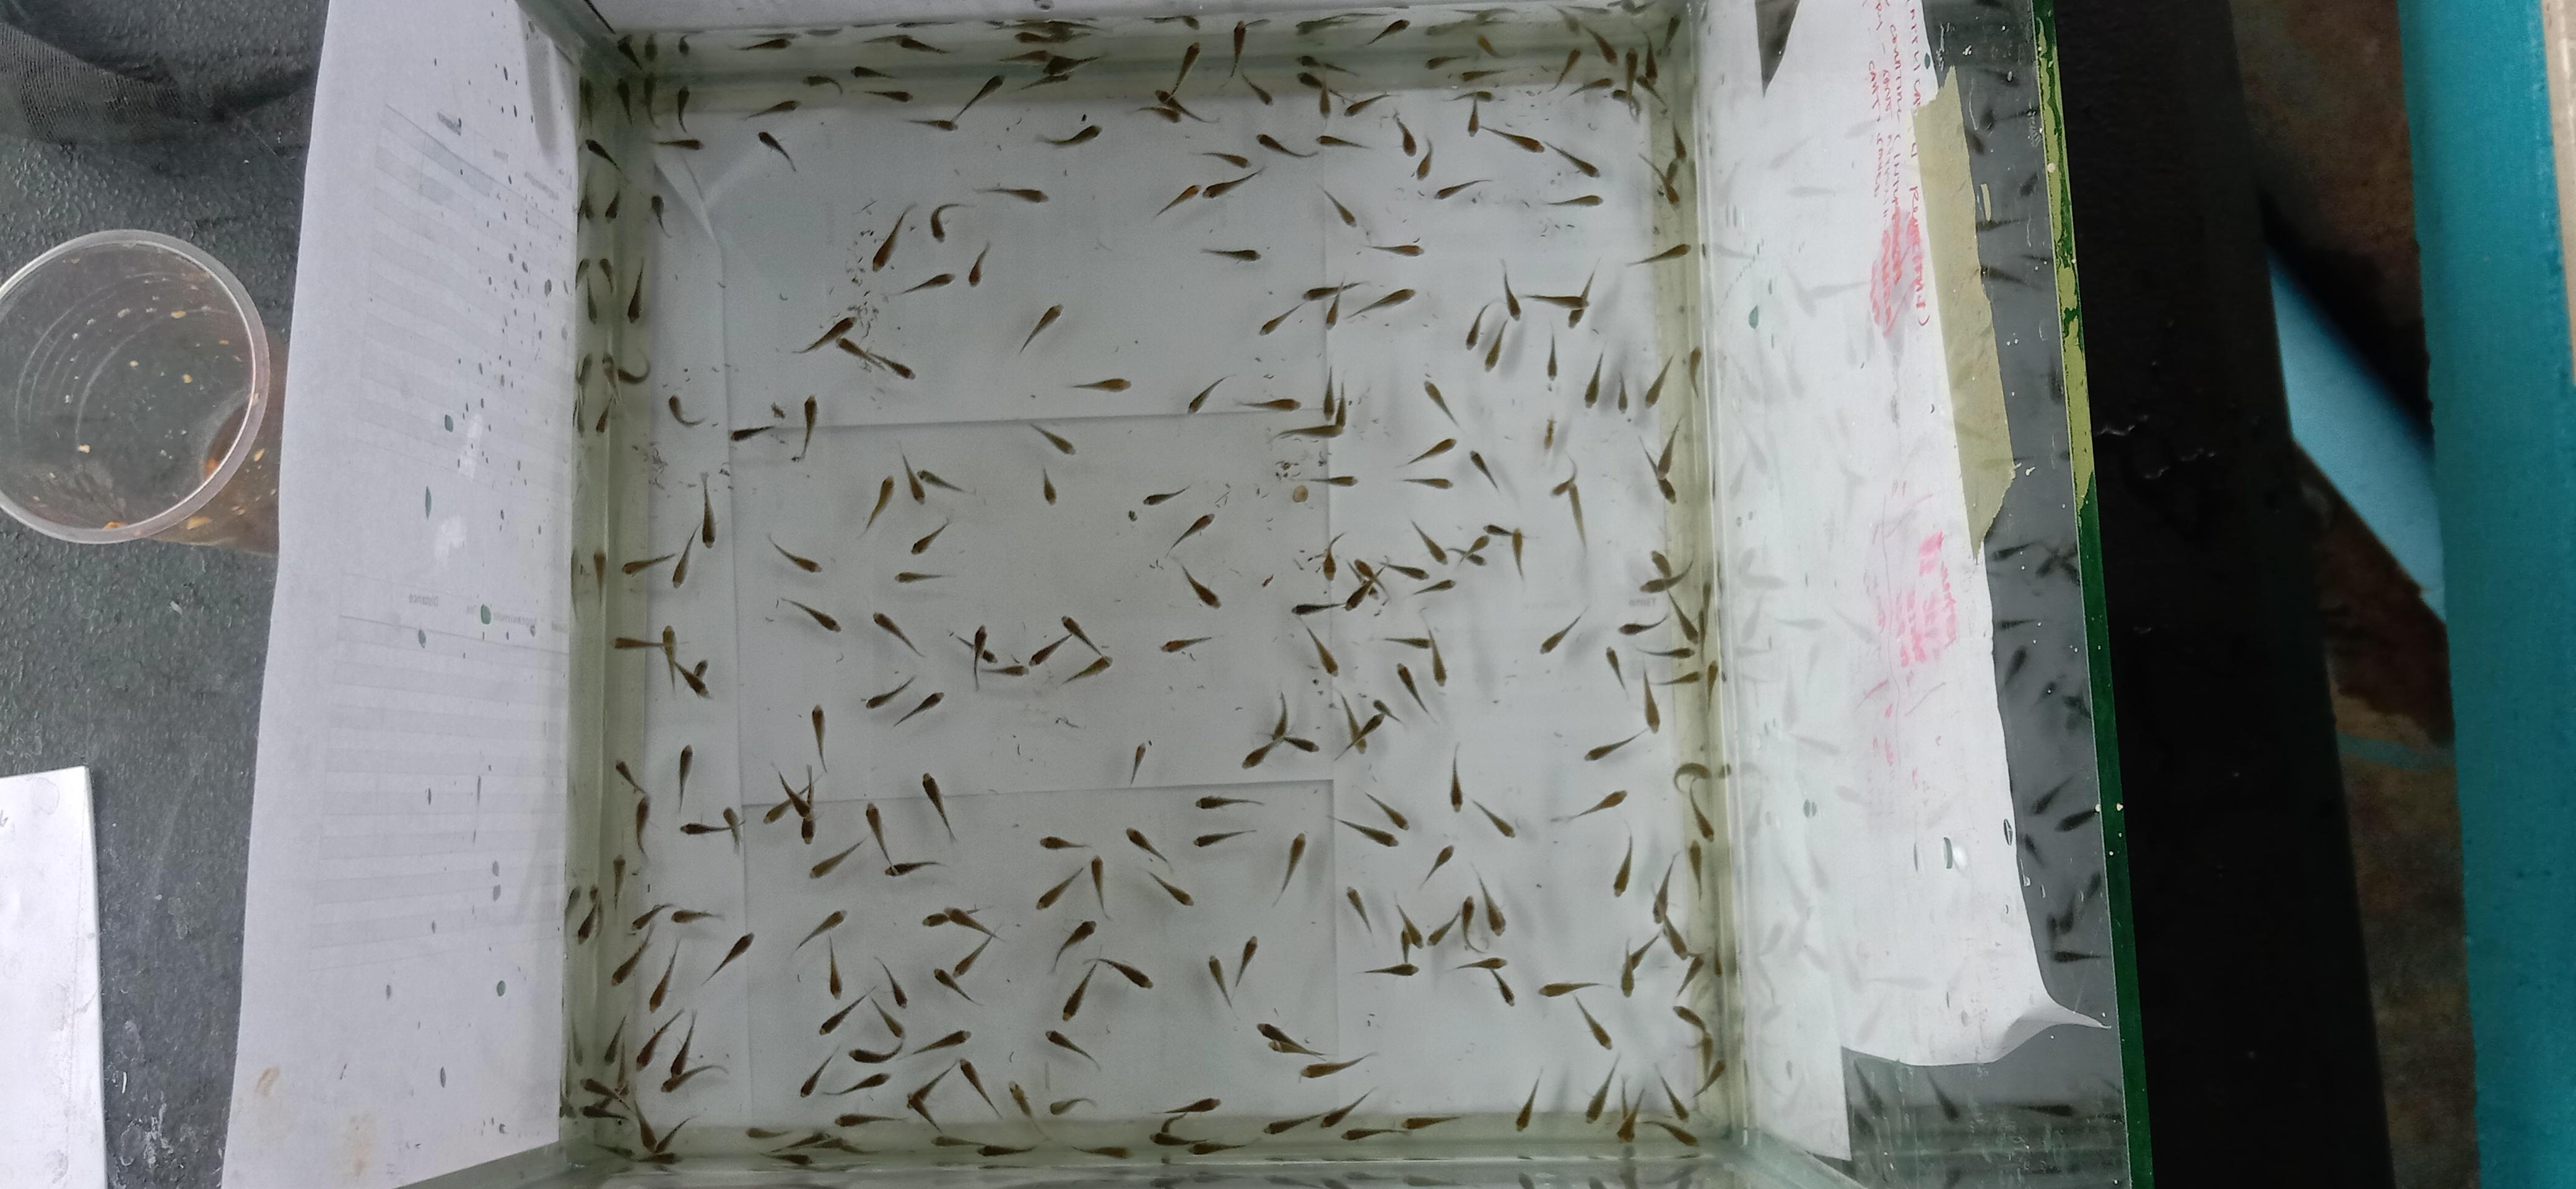fingerling: (1134, 41, 1221, 126), (613, 624, 710, 698), (1322, 187, 1423, 256), (1480, 122, 1600, 179), (1449, 742, 1515, 838), (1258, 279, 1364, 337), (1240, 690, 1316, 769), (862, 803, 940, 877), (1157, 164, 1265, 217), (905, 74, 1004, 131), (1061, 956, 1152, 1018), (660, 1013, 728, 1094), (948, 622, 1027, 690), (670, 473, 716, 586), (1460, 94, 1544, 154), (1538, 980, 1613, 1048), (1263, 1089, 1373, 1135), (1327, 688, 1398, 759), (1035, 854, 1111, 920), (1272, 376, 1349, 440), (1344, 553, 1429, 609), (1671, 1003, 1723, 1094), (1651, 859, 1695, 961), (818, 990, 904, 1043), (1184, 374, 1298, 414), (793, 908, 844, 995), (862, 672, 943, 726), (764, 764, 818, 841), (1525, 269, 1595, 325), (931, 938, 991, 1003), (1206, 934, 1258, 1008), (1424, 31, 1513, 74), (1382, 629, 1447, 685), (1017, 51, 1104, 92), (900, 450, 969, 501), (614, 759, 651, 854), (1672, 760, 1715, 841), (1341, 1113, 1462, 1141), (836, 337, 913, 379), (1559, 11, 1620, 66), (1567, 79, 1643, 122), (1549, 463, 1587, 547), (905, 1063, 951, 1130), (871, 204, 915, 273), (578, 151, 621, 222), (1303, 279, 1365, 327), (1456, 956, 1515, 1005), (634, 1007, 682, 1067), (570, 545, 606, 624), (678, 806, 743, 851), (1362, 926, 1419, 976), (639, 1112, 697, 1161), (1341, 286, 1414, 324), (629, 902, 723, 931), (1226, 18, 1270, 80), (951, 74, 1004, 126), (1620, 931, 1661, 997), (1152, 1097, 1217, 1138), (1242, 732, 1316, 769), (1551, 788, 1628, 823), (956, 1058, 1000, 1117), (922, 905, 997, 939), (705, 930, 754, 982), (1426, 895, 1474, 949), (1050, 918, 1096, 974), (1272, 831, 1306, 905), (1291, 583, 1368, 616), (1296, 529, 1345, 580), (797, 312, 858, 353), (1638, 549, 1694, 593), (920, 772, 954, 842), (872, 609, 923, 657), (1035, 861, 1083, 911), (808, 838, 866, 879), (1019, 302, 1063, 355), (818, 990, 871, 1035), (1636, 153, 1681, 205), (1584, 1054, 1618, 1122), (1483, 522, 1525, 578), (729, 402, 787, 442), (858, 475, 894, 537), (777, 596, 839, 632), (1255, 1020, 1318, 1056), (1321, 1087, 1373, 1130), (660, 1061, 728, 1094), (1395, 662, 1434, 718), (1296, 71, 1344, 117), (793, 908, 844, 951), (1060, 961, 1097, 1018), (1474, 869, 1506, 934), (565, 882, 600, 944), (862, 803, 894, 872), (1544, 140, 1600, 177), (609, 936, 652, 985), (767, 534, 820, 573), (1045, 1028, 1097, 1067), (1203, 166, 1265, 199), (646, 944, 677, 1010), (1539, 609, 1585, 654), (580, 1076, 629, 1117), (1334, 816, 1398, 847), (1301, 622, 1339, 675), (1124, 824, 1170, 867), (1178, 560, 1219, 608), (1584, 729, 1646, 760), (1349, 557, 1388, 606), (593, 355, 618, 434), (1155, 89, 1211, 123), (1421, 378, 1459, 429), (1663, 591, 1700, 642), (1170, 511, 1214, 553), (1299, 1054, 1370, 1081), (1482, 125, 1544, 154), (1641, 450, 1677, 501), (1401, 435, 1457, 468), (1096, 956, 1152, 989), (744, 1122, 830, 1143), (1061, 614, 1106, 655), (931, 964, 977, 1003), (1469, 796, 1515, 836), (1145, 869, 1193, 907), (1654, 913, 1692, 961), (1641, 1117, 1699, 1148), (894, 690, 943, 726), (1575, 998, 1612, 1048), (1482, 317, 1515, 371), (792, 394, 818, 461), (862, 673, 913, 708), (1255, 131, 1318, 159), (908, 1028, 971, 1056), (1410, 519, 1447, 565), (757, 130, 797, 172), (1186, 374, 1229, 414), (890, 271, 954, 297), (1628, 241, 1692, 268), (1364, 792, 1408, 829), (876, 957, 908, 1008), (798, 1051, 835, 1097), (632, 440, 669, 486), (1258, 301, 1306, 335), (828, 1069, 890, 1095), (928, 202, 969, 241), (951, 938, 991, 979), (572, 351, 591, 434), (1465, 301, 1498, 350), (1656, 1069, 1689, 1118), (1643, 353, 1672, 407), (1513, 1071, 1539, 1132), (1061, 654, 1112, 685), (1170, 41, 1201, 92), (1037, 122, 1101, 146), (848, 1036, 904, 1064), (910, 516, 950, 555), (582, 138, 623, 176), (869, 997, 905, 1040), (1298, 53, 1360, 77), (899, 450, 927, 504), (1028, 422, 1074, 455), (1045, 51, 1102, 77), (575, 256, 598, 322), (1526, 289, 1587, 314), (674, 657, 710, 698), (948, 624, 989, 660), (1010, 23, 1079, 44), (1421, 842, 1454, 887), (670, 527, 695, 586), (1676, 953, 1707, 998), (974, 184, 1046, 204), (621, 550, 675, 576), (1206, 954, 1232, 1008), (1232, 934, 1258, 989), (1322, 187, 1357, 228), (667, 393, 708, 427), (1395, 900, 1424, 948), (1157, 182, 1199, 215), (1612, 831, 1633, 897), (1273, 420, 1344, 440), (1469, 448, 1500, 493), (1617, 1089, 1643, 1141), (1344, 885, 1372, 934), (1262, 1110, 1318, 1135), (1089, 856, 1111, 920), (568, 547, 586, 622), (1304, 278, 1364, 301), (1028, 634, 1069, 667), (918, 468, 969, 494), (601, 1013, 628, 1064), (1434, 177, 1492, 200), (743, 99, 800, 122), (629, 902, 674, 931), (614, 757, 647, 796), (1631, 44, 1659, 90), (1551, 48, 1582, 89), (1227, 20, 1249, 79), (1426, 627, 1447, 686), (810, 703, 828, 772), (1452, 532, 1488, 567), (1672, 1003, 1709, 1038), (1684, 839, 1707, 893), (1365, 18, 1410, 46), (624, 259, 644, 322), (1641, 668, 1661, 731), (1695, 1056, 1727, 1095), (1500, 263, 1521, 320), (1582, 350, 1603, 407), (1194, 828, 1255, 847), (675, 742, 693, 808), (700, 475, 716, 547), (1449, 741, 1465, 813), (966, 240, 991, 287), (1344, 92, 1391, 117), (1605, 647, 1630, 695), (1462, 94, 1488, 138), (1401, 1113, 1460, 1133), (1005, 1079, 1035, 1118), (1395, 112, 1419, 158), (977, 655, 1027, 678), (613, 632, 669, 652), (1457, 895, 1477, 951), (649, 192, 672, 240), (1618, 614, 1669, 636), (1240, 72, 1273, 105), (1538, 980, 1603, 997), (1017, 72, 1071, 92), (611, 356, 649, 384), (1378, 558, 1428, 580), (835, 1112, 899, 1128), (884, 859, 941, 877), (825, 939, 843, 997), (1160, 634, 1212, 654), (895, 34, 948, 54), (1068, 376, 1130, 393), (1610, 89, 1641, 122), (1194, 795, 1263, 810), (1142, 484, 1189, 506), (1046, 1095, 1094, 1117), (1316, 133, 1372, 151), (1549, 461, 1577, 498), (1322, 370, 1341, 425), (1198, 149, 1249, 169), (1686, 345, 1705, 396), (632, 793, 649, 854), (1232, 396, 1299, 411), (1341, 1127, 1408, 1141), (721, 805, 743, 851), (1201, 246, 1260, 263), (1242, 739, 1275, 769), (1370, 696, 1405, 724), (670, 907, 723, 925), (674, 85, 693, 133), (1474, 31, 1505, 61), (1413, 138, 1434, 181), (803, 72, 843, 95), (1129, 739, 1148, 785), (1398, 475, 1452, 491), (894, 568, 948, 585), (1368, 240, 1423, 256), (997, 49, 1051, 66), (1350, 557, 1380, 586), (1569, 79, 1613, 99), (1038, 834, 1091, 851), (609, 854, 626, 907), (1456, 954, 1506, 971), (1656, 668, 1702, 686), (736, 36, 792, 51), (1364, 961, 1419, 976), (678, 819, 728, 836), (729, 424, 774, 442), (1411, 576, 1456, 594), (1424, 53, 1469, 71), (654, 135, 701, 151), (1382, 632, 1429, 649), (861, 89, 912, 103), (595, 256, 614, 294), (851, 64, 895, 80), (1544, 332, 1559, 381), (590, 547, 606, 591), (1548, 194, 1602, 207), (905, 117, 958, 130), (1612, 373, 1628, 414), (1643, 645, 1694, 659), (1040, 465, 1056, 504), (1495, 974, 1515, 1005), (1541, 415, 1557, 452), (573, 256, 590, 289)
